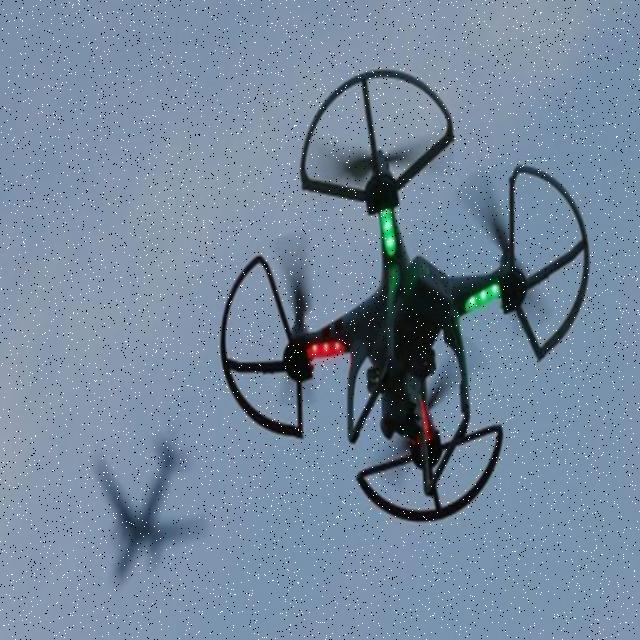UAV: (219, 67, 593, 523)
